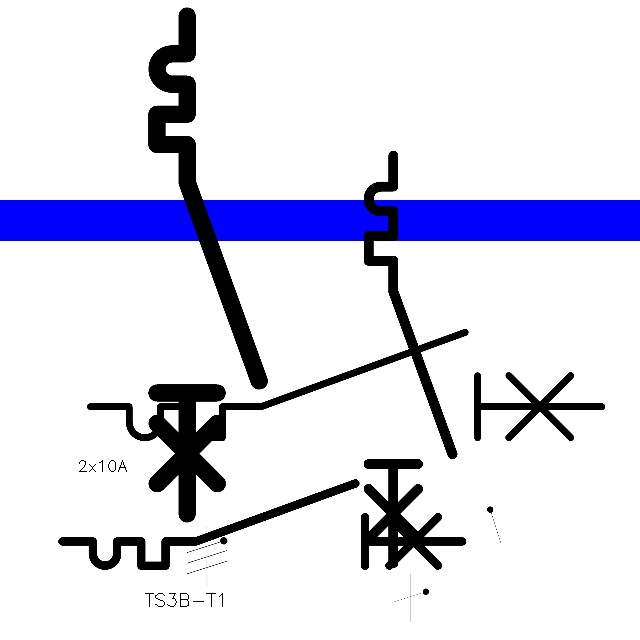interruptor_termomagnetico: (77, 319, 615, 451), (144, 3, 272, 526), (358, 145, 463, 573), (52, 473, 473, 576)
